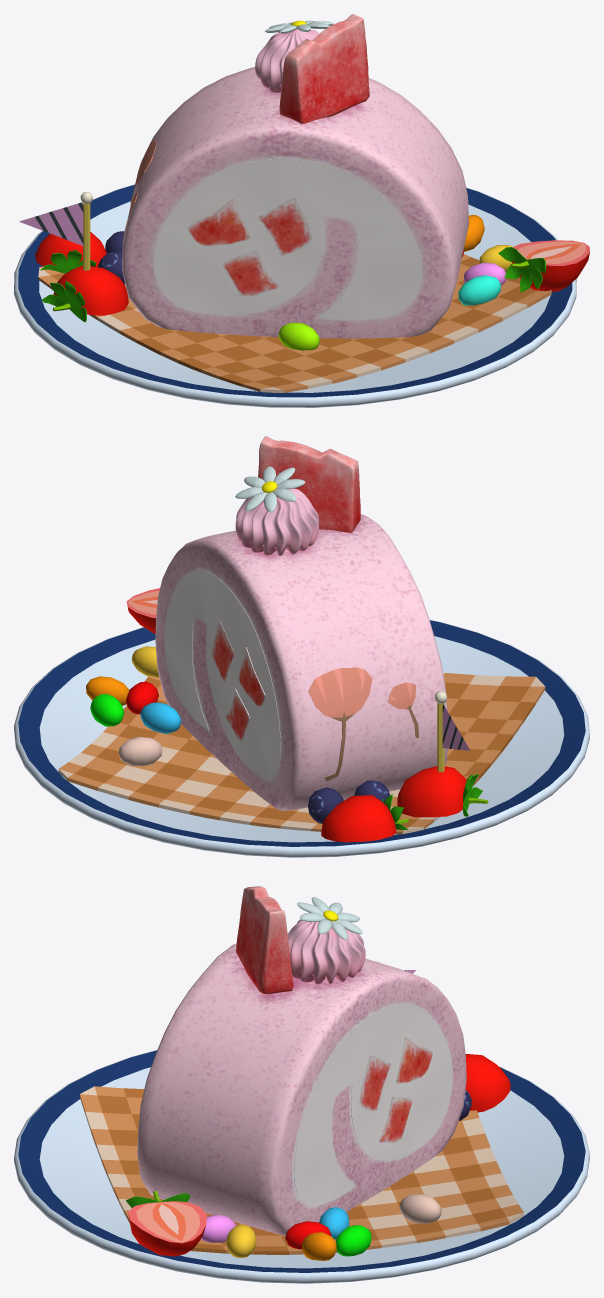
Rendered from DanGao_Chai.FBX.
3 views of the same model, one above another, from view 1: azimuth 30°, elevation 25°; view 2: azimuth 150°, elevation 25°; view 3: azimuth 270°, elevation 25° (orthographic). The views are drawn at different scales.
Visible parts, largest first — view 1: Object021, naiyou3, Object017, Object020, Object018, Object022, Object023, Object019, Object033, Object007, Object014, Object011 (+6 smaller); view 2: Object021, naiyou3, Object020, Object017, Object018, Object022, Object019, Object033, Object004, Object030, Object032, Object010 (+7 smaller); view 3: Object021, naiyou3, Object020, Object017, Object018, Object019, Object033, Object022, Object030, Object027, Object010, Object016 (+7 smaller).
Boxes of the visible parts, <box> form: Object021: <box>122,14,468,338</box>; naiyou3: <box>14,184,576,407</box>; Object017: <box>38,254,551,392</box>; Object020: <box>18,185,572,397</box>; Object018: <box>51,257,536,386</box>; Object022: <box>35,232,589,315</box>; Object023: <box>40,247,546,322</box>; Object019: <box>38,267,551,392</box>; Object033: <box>255,29,319,93</box>; Object007: <box>19,202,83,245</box>; Object014: <box>458,275,500,305</box>; Object011: <box>278,322,319,350</box>; Object021: <box>155,436,447,810</box>; naiyou3: <box>14,620,589,857</box>; Object020: <box>18,620,585,846</box>; Object017: <box>59,673,545,834</box>; Object018: <box>74,677,535,826</box>; Object022: <box>127,607,466,842</box>; Object019: <box>58,672,544,833</box>; Object033: <box>235,488,319,556</box>; Object004: <box>308,667,415,717</box>; Object030: <box>235,466,305,512</box>; Object032: <box>308,780,390,823</box>; Object010: <box>119,736,162,766</box>; Object021: <box>137,886,466,1235</box>; naiyou3: <box>14,1050,589,1283</box>; Object020: <box>18,1050,585,1272</box>; Object017: <box>80,1086,523,1254</box>; Object018: <box>97,1088,506,1254</box>; Object019: <box>80,1086,523,1247</box>; Object033: <box>287,919,365,984</box>; Object022: <box>128,1054,510,1256</box>; Object030: <box>297,897,362,939</box>; Object027: <box>136,1202,199,1242</box>; Object010: <box>399,1194,441,1223</box>; Object016: <box>336,1225,371,1256</box>.
Size of the model in its own units: 215 by 131 by 215.
34 materials, 2 textured.
